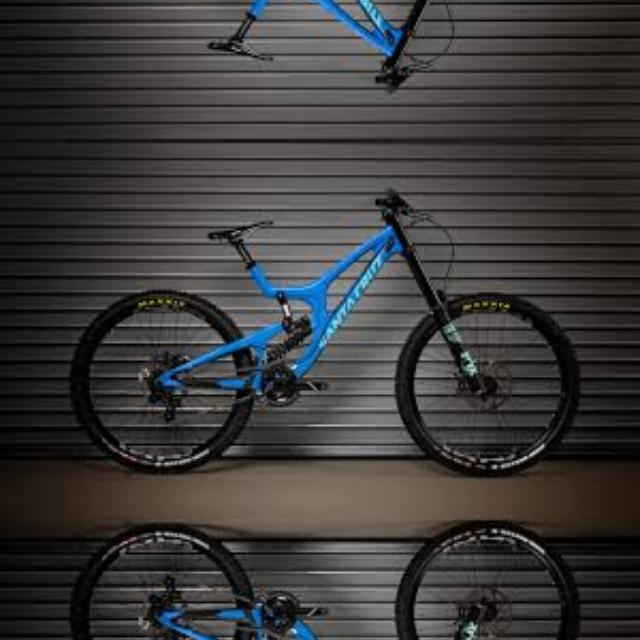obstacle: (81, 164, 611, 470), (81, 0, 611, 116), (81, 527, 611, 640)
